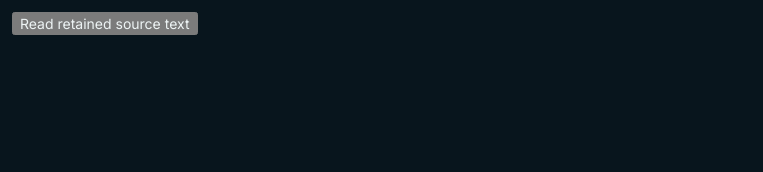
Test case: shows unavailable text explicitly
This screenshot has width=763, height=172.
Click the button "Read retained source text" at (105, 24), box 12,12 -> 198,35
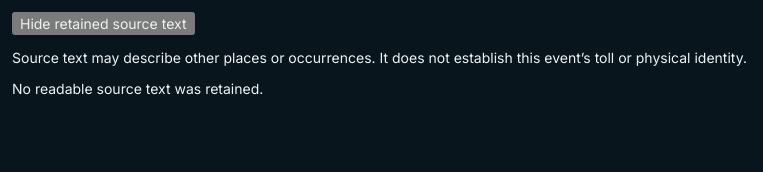
Result: the text "No readable source text was retained." is shown at 12,80 -> 263,97
